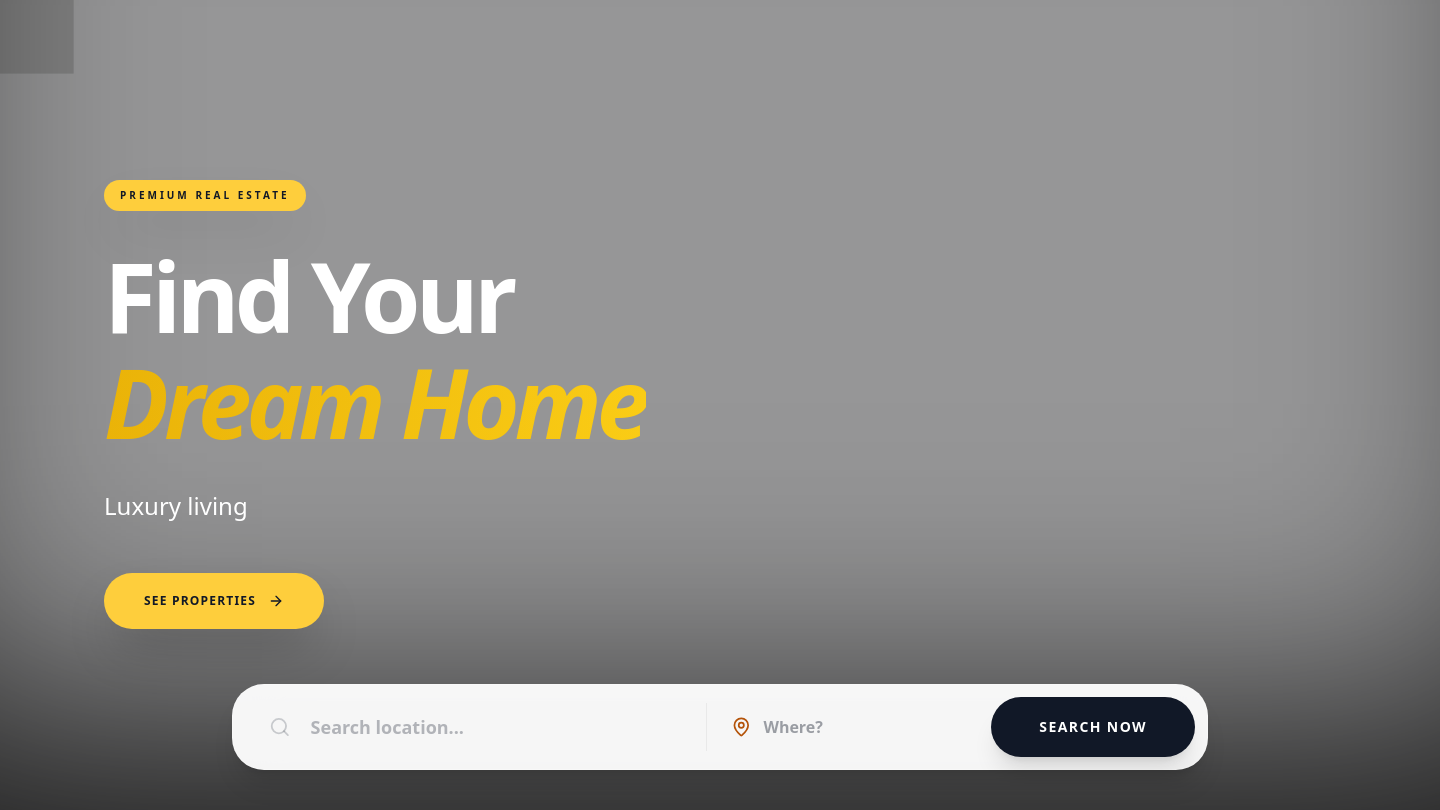
Test: HeroClient › closes dropdowns on click outside
Step 1. Type "Mar" into the field with placeholder "Search location..." → (496, 727), box [311,697,682,757]
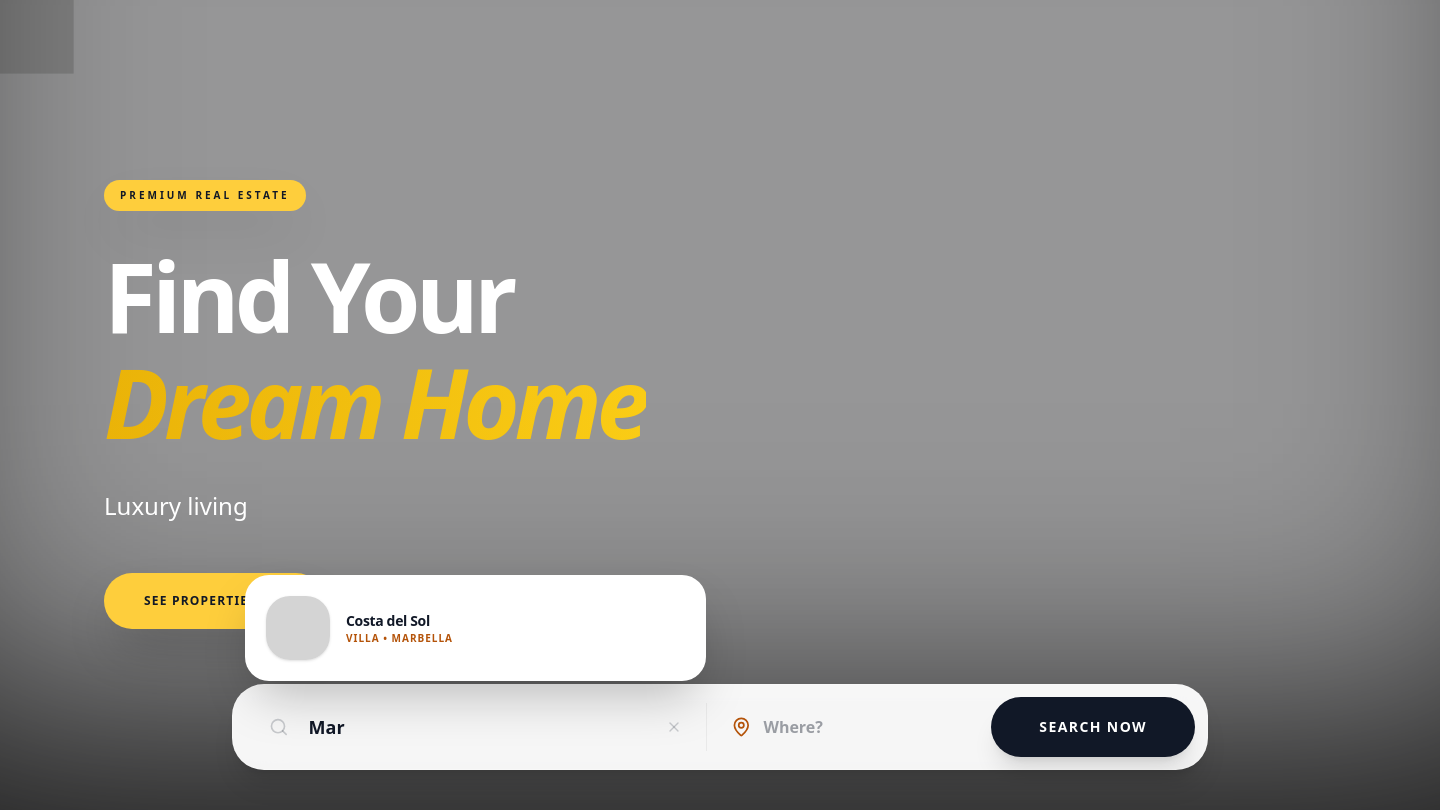
Expected: the element with test id "search-dropdown" is shown, [245,575,706,681]
Step 2. Press the mouse on the element that starts with "Premium Real Estate" → (720, 405), box [0,0,1439,809]
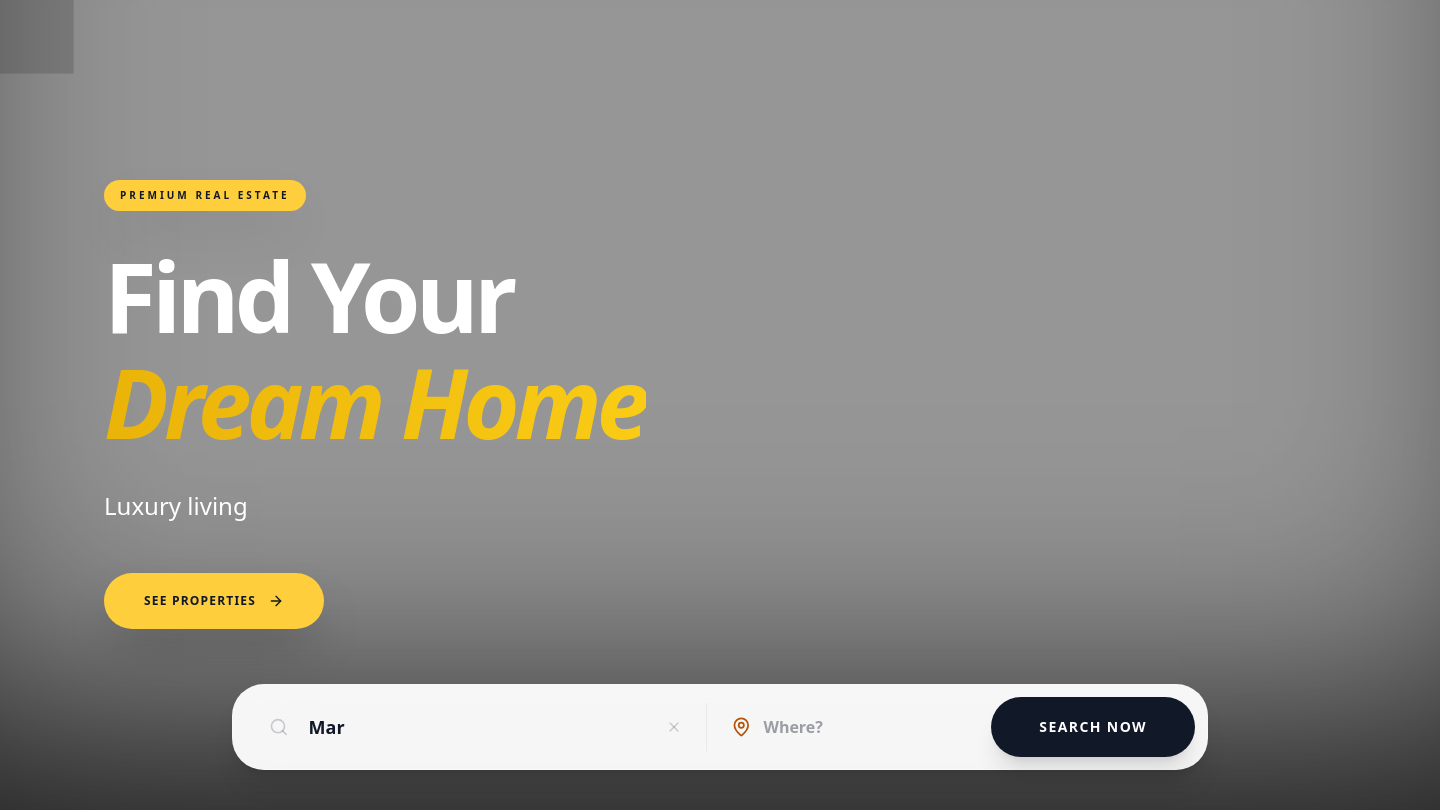
Expected: the element with test id "search-dropdown" is gone
